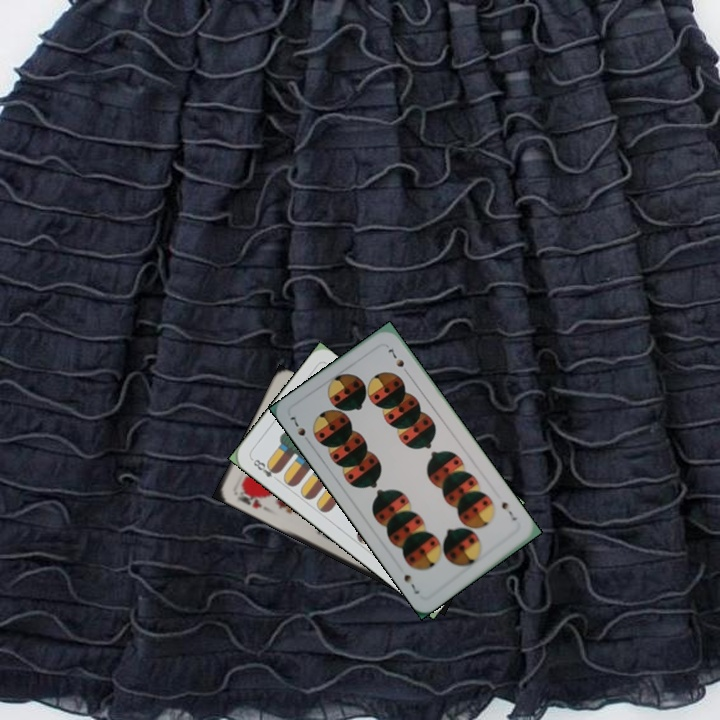E8: (247, 454, 282, 484)
HK: (233, 485, 265, 511)
S7: (286, 412, 314, 447), (497, 498, 519, 523)
